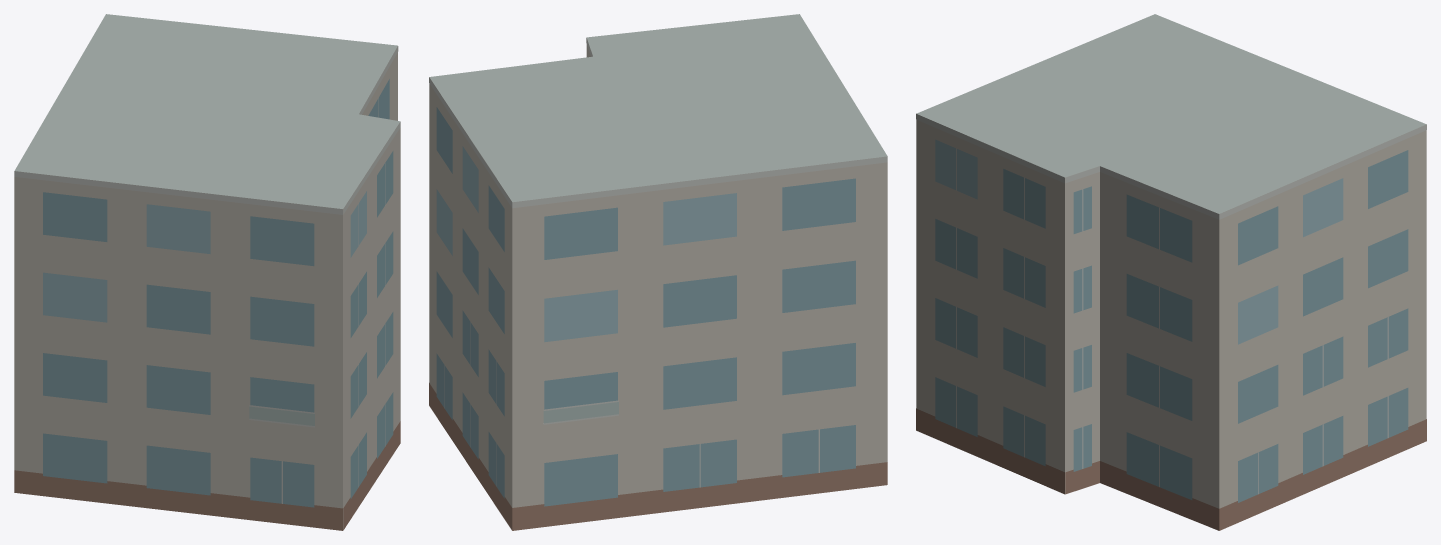
Rendered from survey-upis-32954906.glb.
3 views of the same model, side by side, from view 1: azimuth 30°, elevation 25°; view 2: azimuth 150°, elevation 25°; view 3: azimuth 270°, elevation 25° (orthographic). The views are drawn at different scales.
Visible parts, largest first — view 1: survey-upis-32954906.tmp; view 2: survey-upis-32954906.tmp; view 3: survey-upis-32954906.tmp.
Boxes of the visible parts, x1,y1,x2,y2 form: survey-upis-32954906.tmp: (14, 14, 400, 530); survey-upis-32954906.tmp: (429, 14, 887, 530); survey-upis-32954906.tmp: (916, 14, 1426, 530).
Size of the model in its own units: 18.16 by 13.4 by 19.58.
